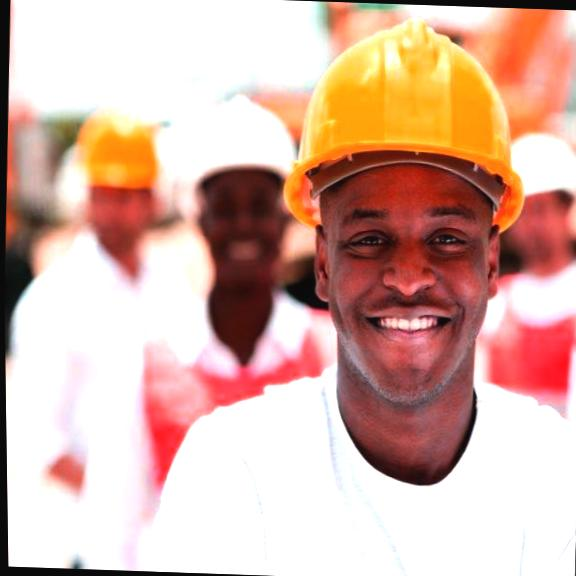no_safety_vest: (150, 359, 576, 576)
